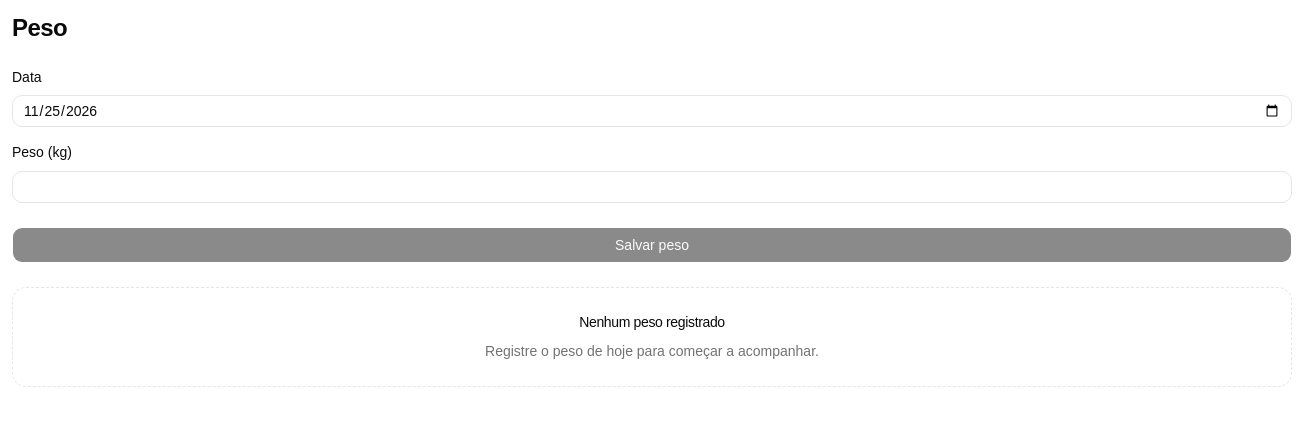
WeightPage › records the weight of today and shows it in the history
Expected: the text "Nenhum peso registrado" is shown, [579, 312, 725, 332]
Type "82.4" into the number field labelled "Peso (kg)" at (652, 186), box [12, 170, 1292, 202]
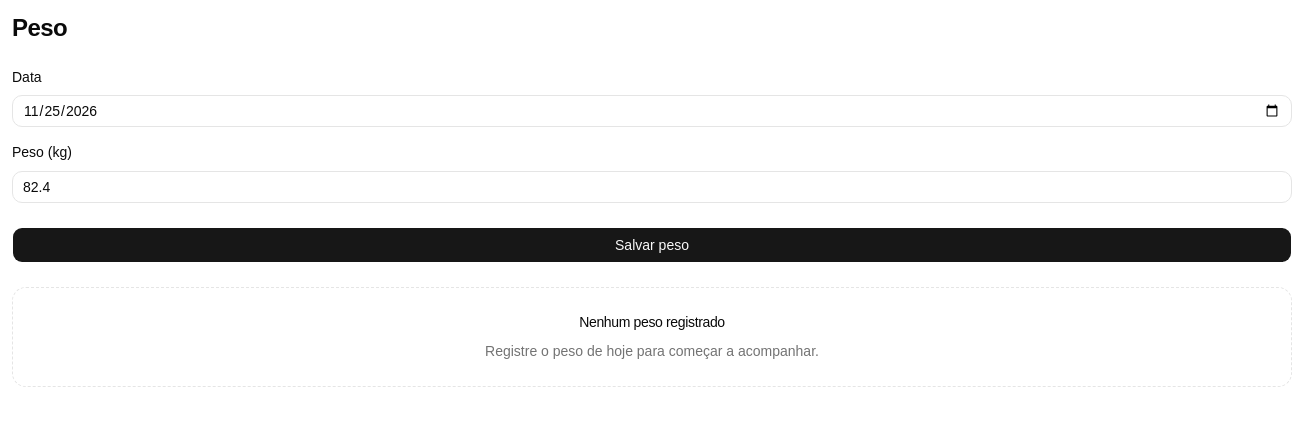
Click the button "Salvar peso" at (652, 244), box [12, 226, 1292, 262]
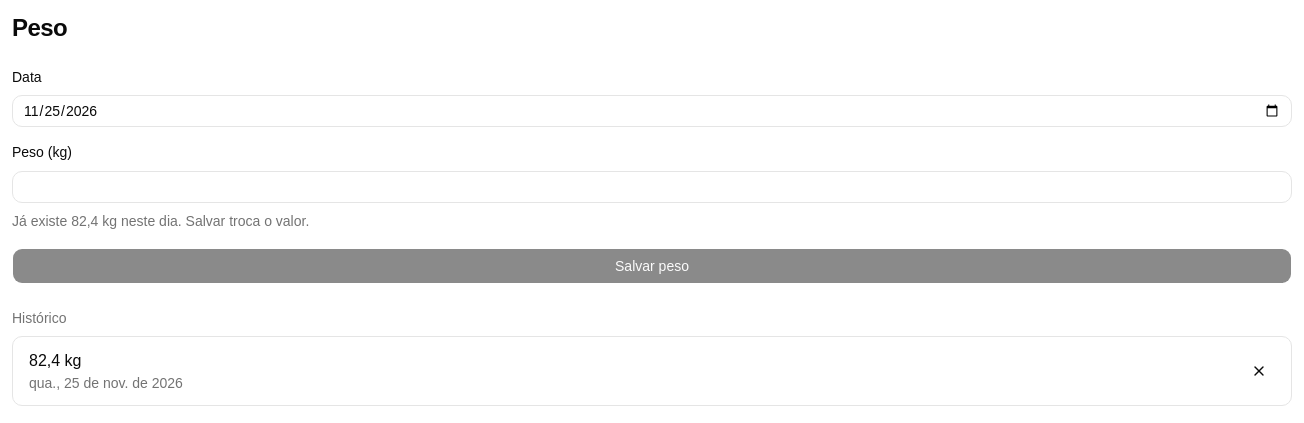
Expected: the text "82,4 kg" is shown, [29, 352, 82, 368]
Expected: the number field labelled "Peso (kg)" is empty, [12, 170, 1292, 202]
